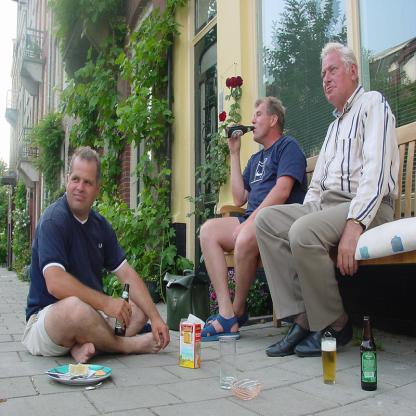drinking: (360, 316, 377, 391), (115, 284, 130, 337), (322, 338, 336, 384), (225, 125, 255, 138)
